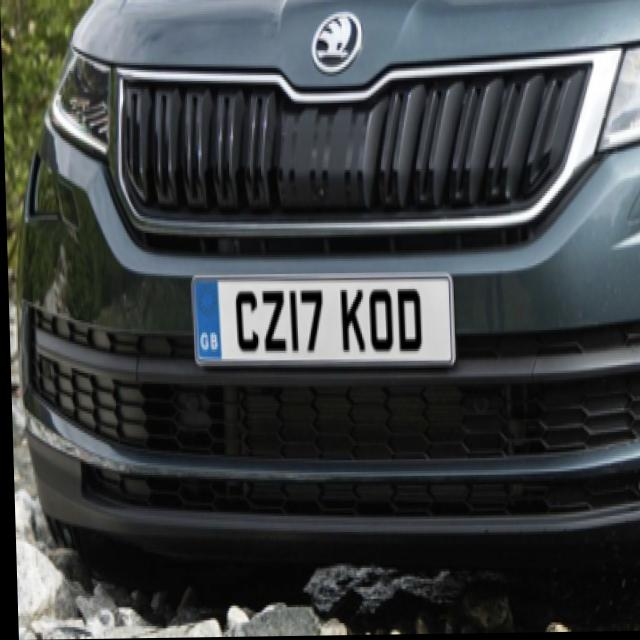licence: (189, 271, 452, 362)
